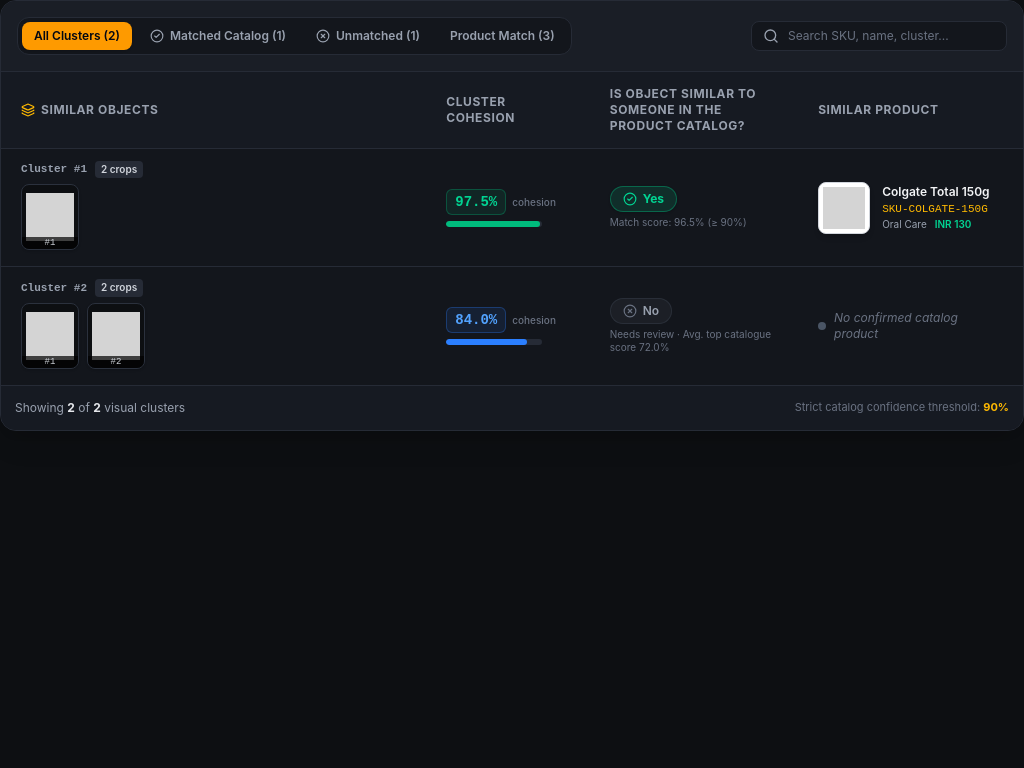
Test: AnalysisTable Component (4-Column Specification) › shows every individual crop's nearest catalogue candidate in Product Match
Click the button with test id "filter-product-match-btn" at (502, 36), box [438, 22, 567, 50]
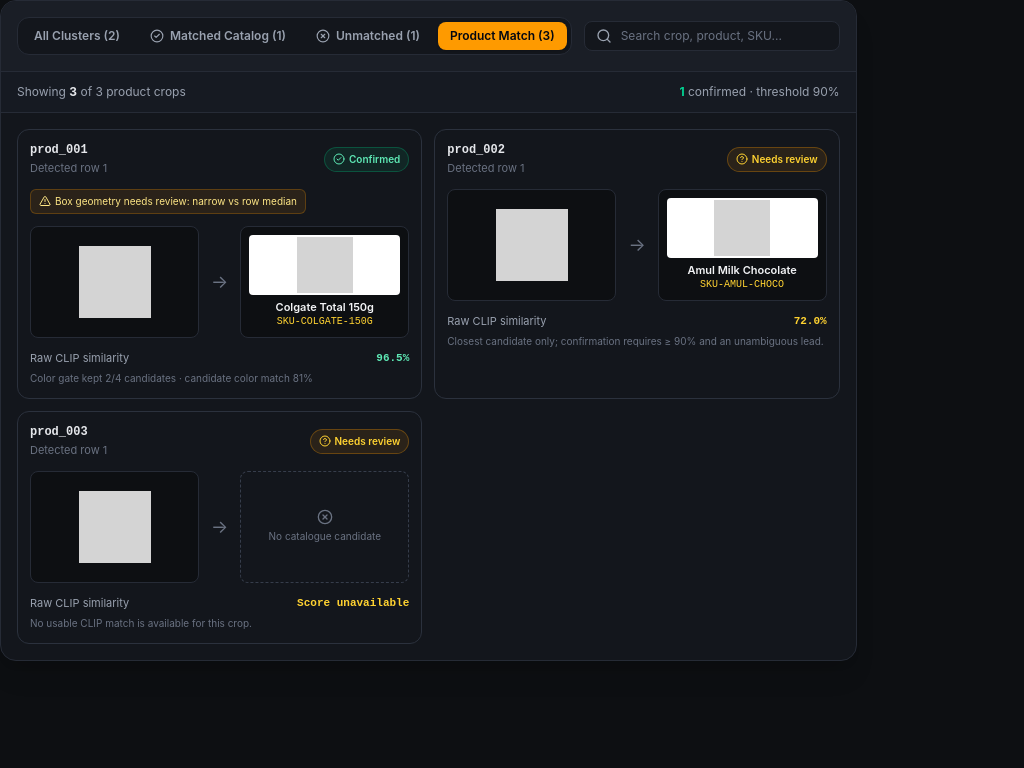
Check: the element with test id "product-match-view" is shown
Check: the number of elements with test id "product-match-item" is 3, box [17, 129, 422, 399]; [434, 129, 840, 399]; [17, 411, 422, 644]
Check: the text "Amul Milk Chocolate" is shown, box [687, 263, 797, 277]
